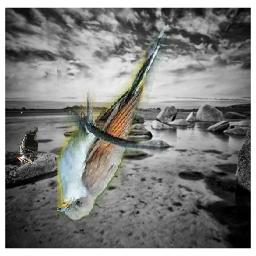Cuckoo: (57, 23, 167, 221)
Woodpecker: (16, 124, 39, 165)
